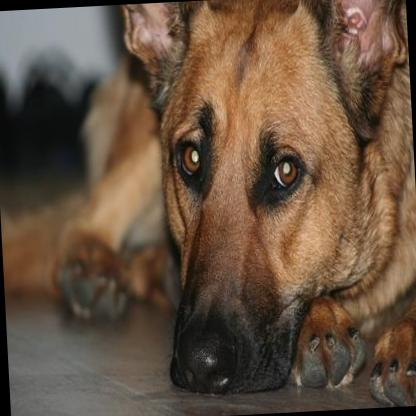malinois: (30, 0, 416, 416)
